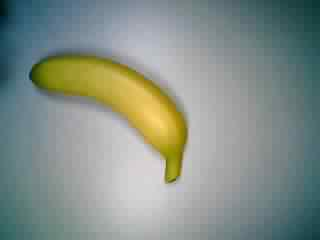banana: (22, 49, 196, 192)
